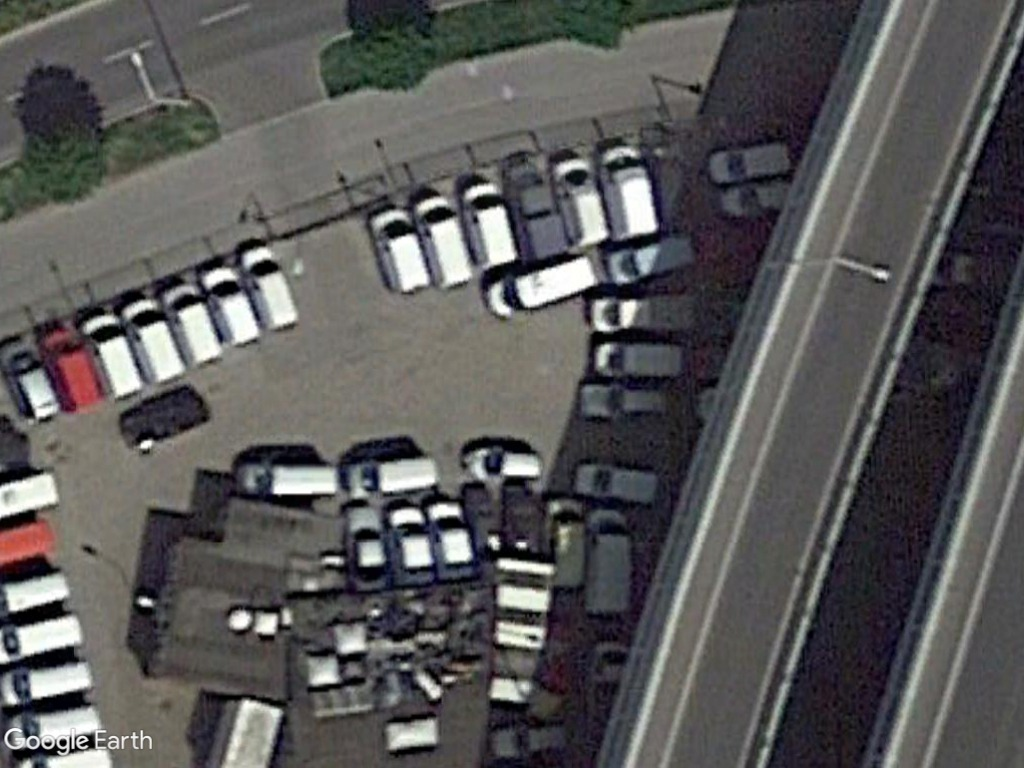car: (572, 372, 678, 424), (600, 233, 703, 286), (570, 452, 665, 508), (700, 139, 797, 189), (425, 491, 476, 583), (343, 502, 395, 588), (388, 497, 436, 589), (462, 440, 549, 486)
van: (480, 247, 604, 318), (542, 144, 619, 253), (596, 139, 667, 246), (574, 504, 642, 614), (413, 185, 478, 295), (72, 308, 145, 405), (365, 198, 432, 301), (234, 236, 301, 339), (39, 318, 108, 417), (118, 291, 188, 386), (155, 278, 226, 370), (583, 284, 699, 340), (198, 263, 268, 355), (0, 336, 68, 426), (233, 455, 348, 507), (461, 176, 522, 273), (339, 452, 445, 504), (0, 657, 97, 711), (583, 334, 691, 381)
